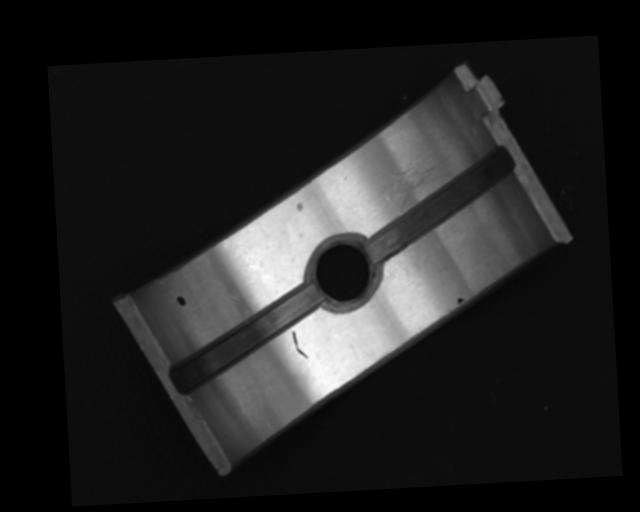blot: (175, 294, 186, 308), (455, 296, 465, 305)
bruise: (295, 202, 304, 214)
gap: (361, 146, 517, 264), (172, 281, 322, 391)
hole: (307, 235, 381, 312)
nick: (290, 329, 307, 359)
scratch: (383, 152, 456, 216)
